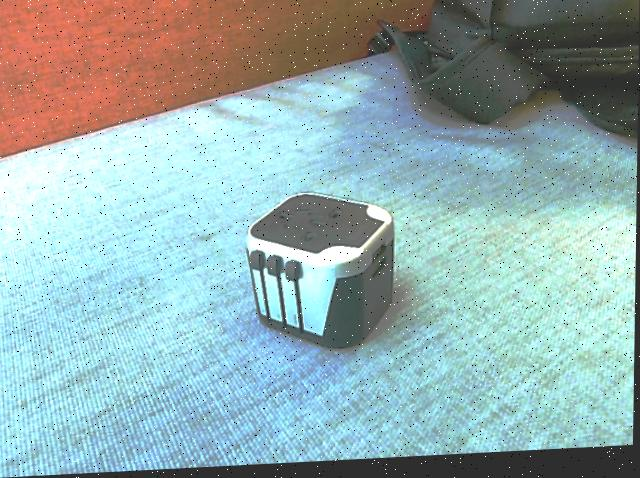adapter: (244, 191, 395, 357)
